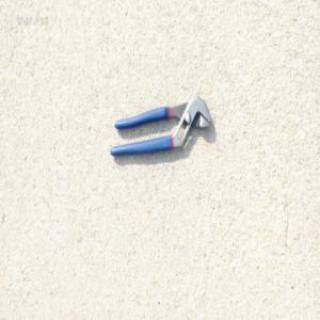Pliertrack_idkeyframe: (108, 94, 211, 156)
